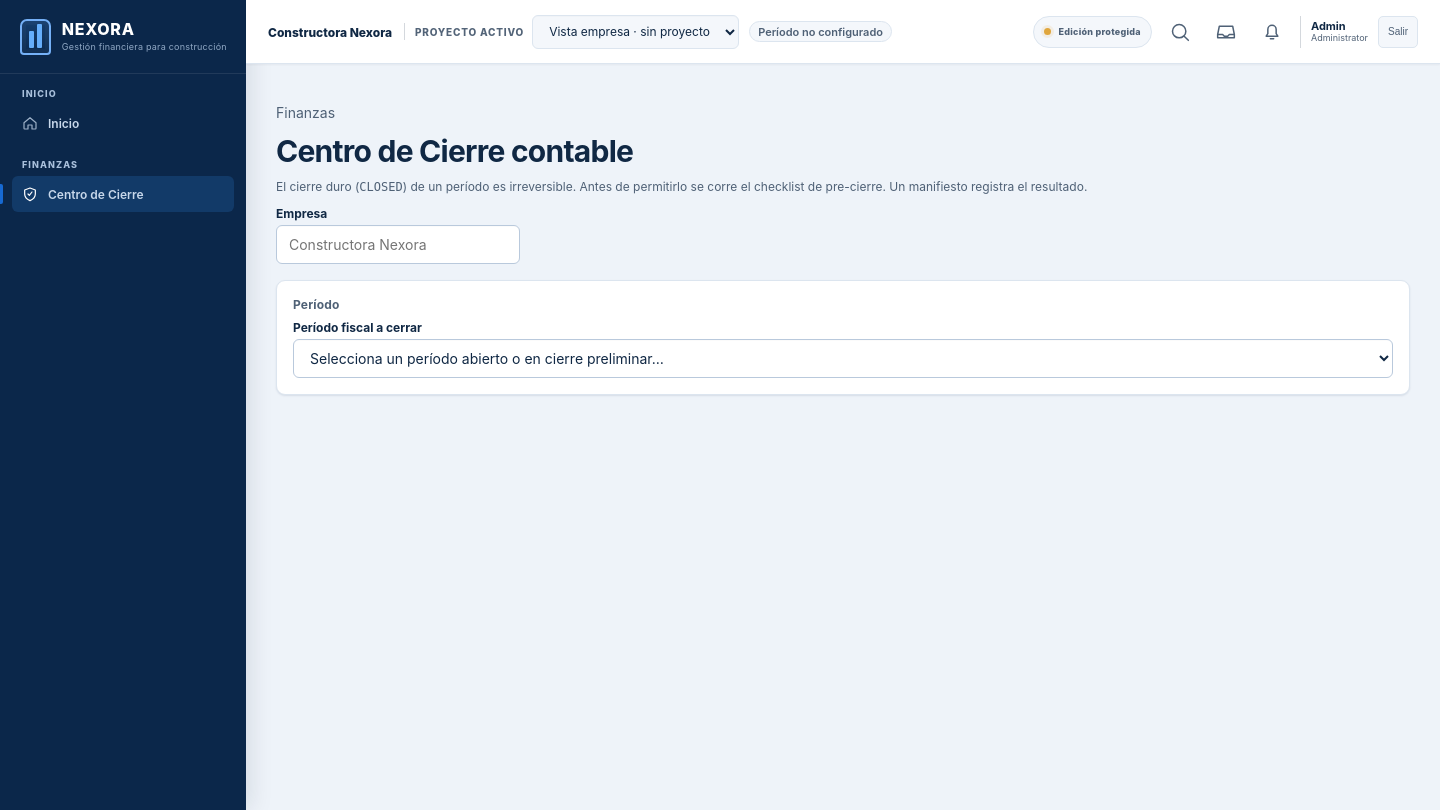
Scenario: ClosingCenterPage › runs the pre-close checklist and blocks hard close when a blocking check fails
Select "P08 · 2026-08-01 → 2026-08-31 · OPEN" in the dropdown labelled "Período fiscal a cerrar" at (843, 359), box [293, 339, 1393, 378]
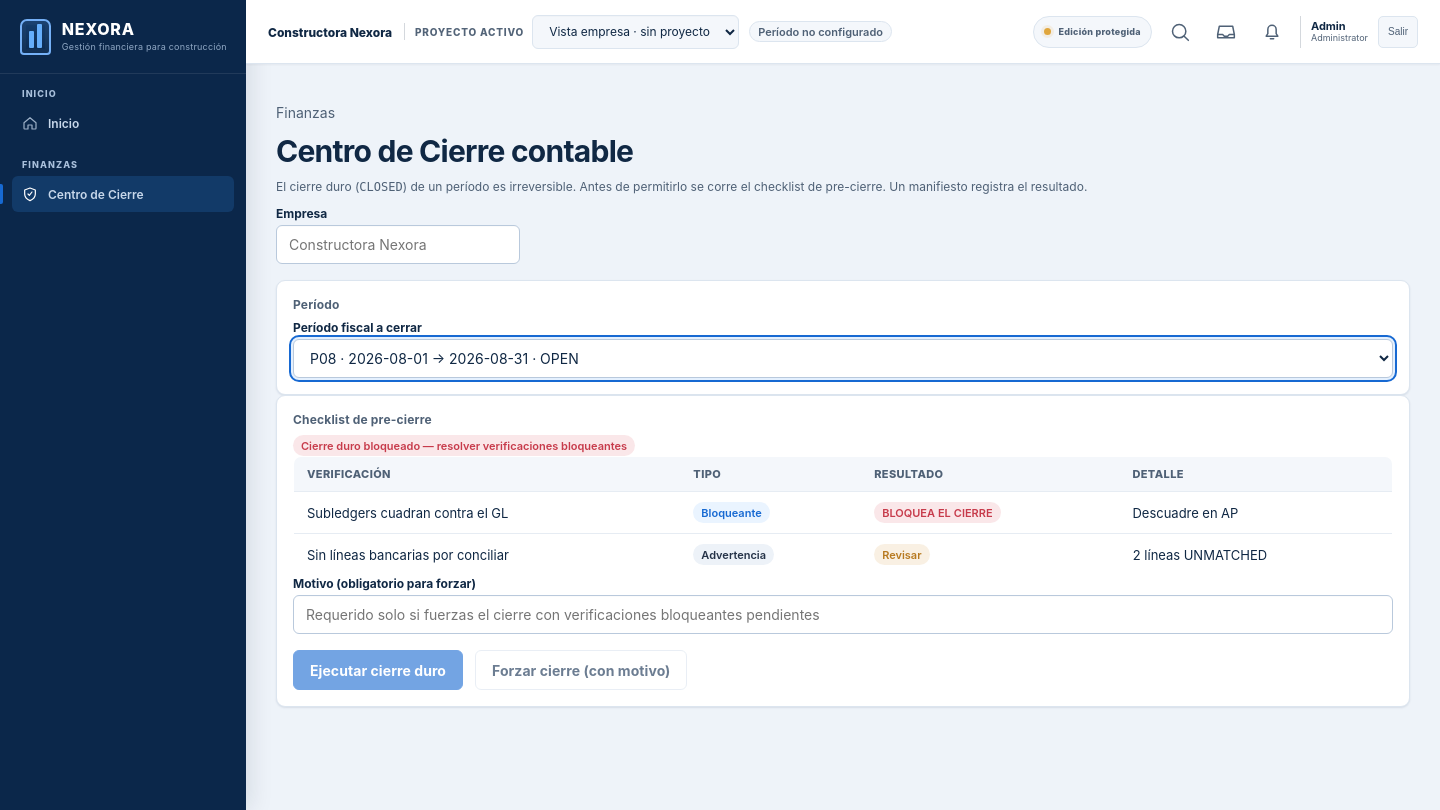
Expected: the text "Cierre duro bloqueado — resolver verificaciones bloqueantes" is shown, [293, 435, 635, 456]
Expected: the text "BLOQUEA EL CIERRE" is shown, [874, 502, 1001, 523]
Expected: the button "Ejecutar cierre duro" is disabled, [293, 650, 463, 690]
